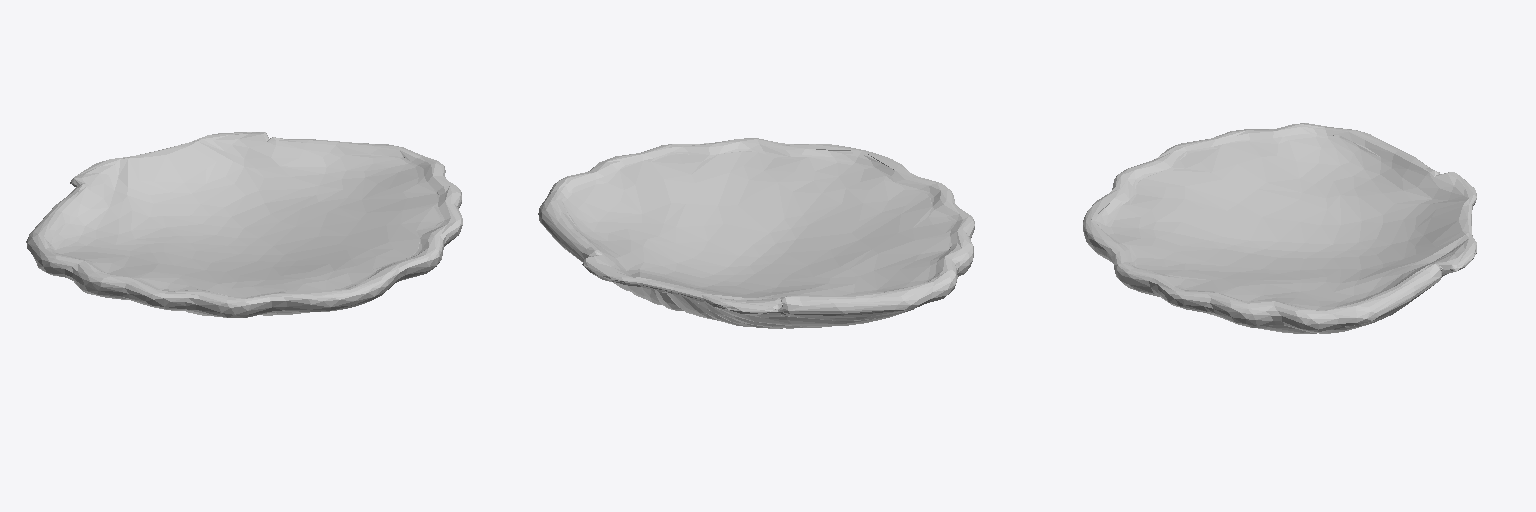
File: clam_common_bottom.obj
3 renders of one model, left to right at view 1: azimuth 30°, elevation 25°; view 2: azimuth 150°, elevation 25°; view 3: azimuth 270°, elevation 25°, orthographic.
Visible parts, largest first — view 1: clam_bottom; view 2: clam_bottom; view 3: clam_bottom.
Part boxes in pixels (x1,y1,x2,y2): clam_bottom: (26,132,462,317); clam_bottom: (538,138,974,328); clam_bottom: (1083,123,1476,333).
Bounding box in the file's own units: 13.2 × 2.52 × 11.27.